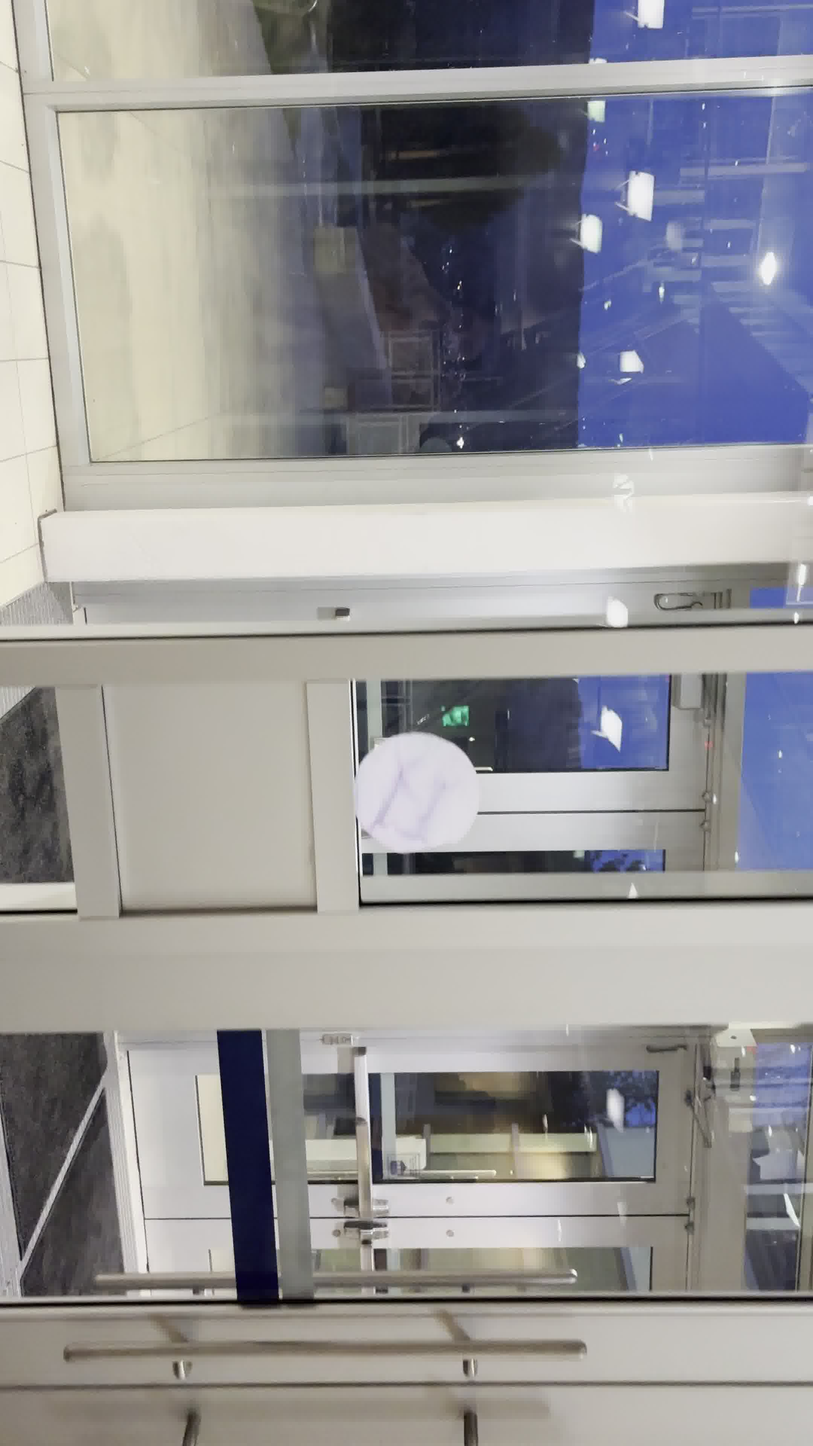Target: (351, 729, 481, 856)
